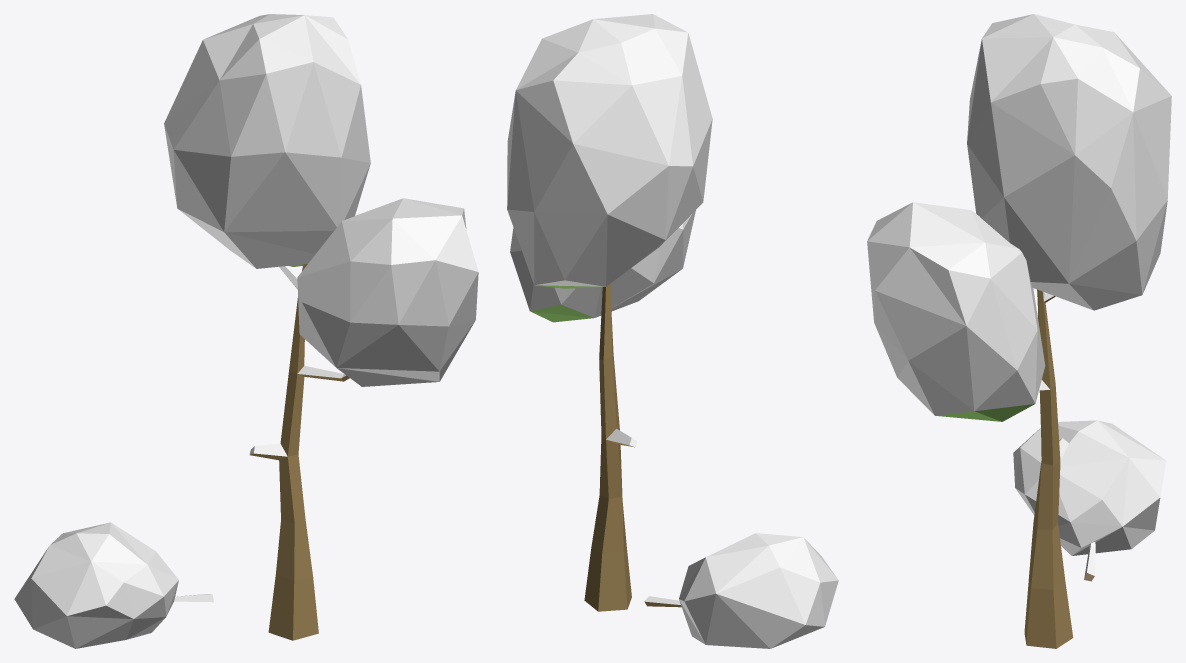
Rendered from Oak_Tree_crk_m_Snow_BT_02.fbx.
3 views of the same model, side by side, from view 1: azimuth 30°, elevation 25°; view 2: azimuth 150°, elevation 25°; view 3: azimuth 270°, elevation 25° (orthographic). The views are drawn at different scales.
Parts seen in each view (by area): view 1: Oak_Tree_crk_m_Snow_BT_02; view 2: Oak_Tree_crk_m_Snow_BT_02; view 3: Oak_Tree_crk_m_Snow_BT_02.
Part boxes in pixels (x1,y1,x2,y2): Oak_Tree_crk_m_Snow_BT_02: (14,14,478,648); Oak_Tree_crk_m_Snow_BT_02: (507,14,838,648); Oak_Tree_crk_m_Snow_BT_02: (867,14,1171,648).
Size of the model in its own units: 556 by 857 by 389.
